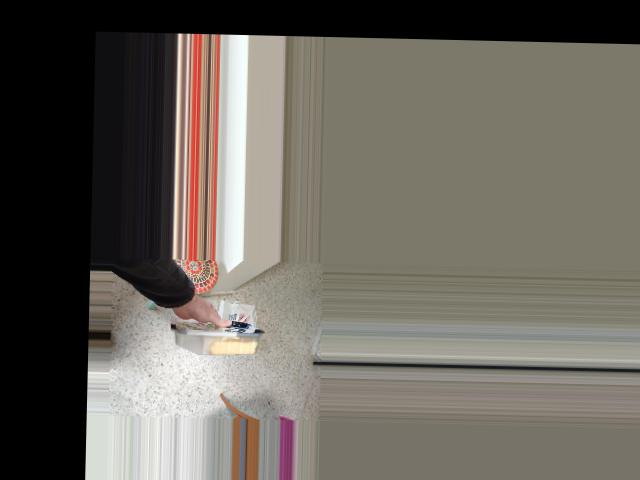cheese: (164, 268, 264, 363)
